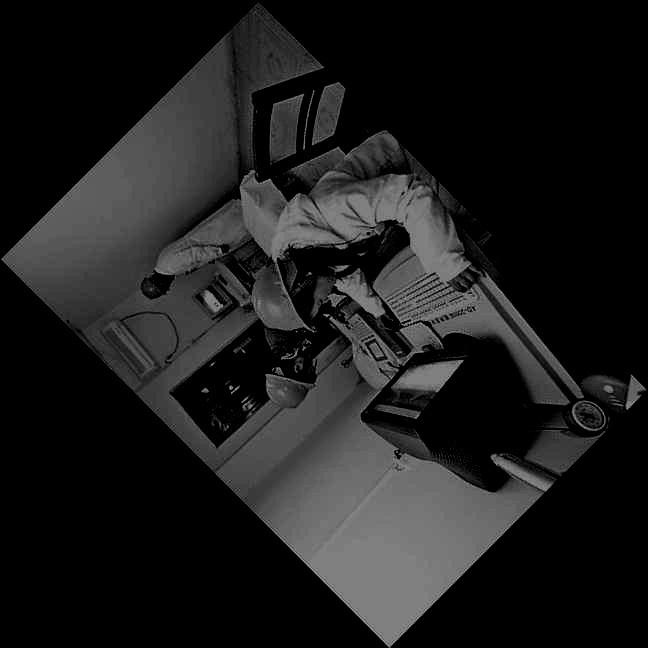helmet: (250, 256, 336, 332), (265, 354, 318, 410), (140, 272, 175, 300)
